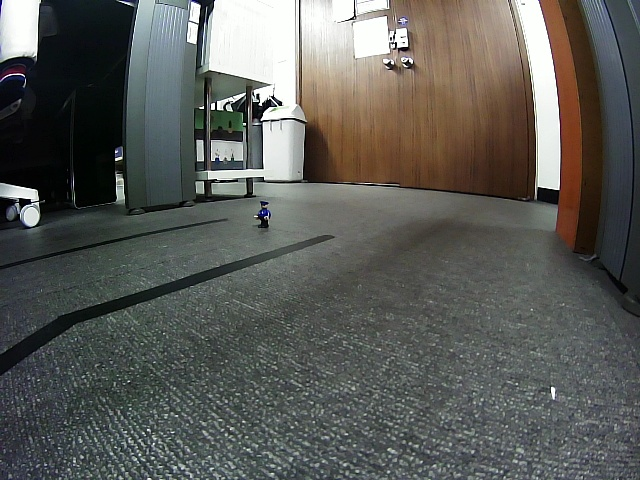person: (253, 200, 272, 229)
